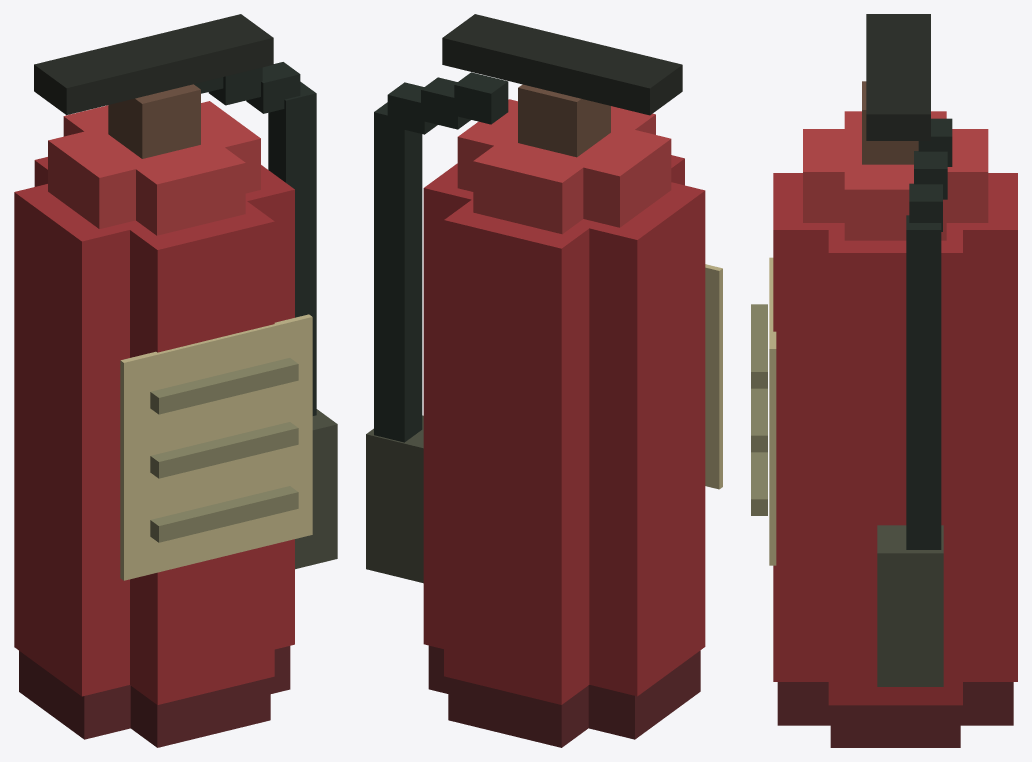
The model's file is CMU3DFireExtinguisher.glb.
3 views of the same model, side by side, from view 1: azimuth 30°, elevation 25°; view 2: azimuth 150°, elevation 25°; view 3: azimuth 270°, elevation 25° (orthographic).
Parts seen in each view (by area): view 1: red pressure cylinder (×3), cream instructions, cylinder shoulder (×3), squeeze handle, cylinder foot (×3), label instruction line (×3), hanging hose (×3), upper neck, hose nozzle, safety hose (×2); view 2: red pressure cylinder (×3), cylinder shoulder (×3), hanging hose (×5), squeeze handle, cylinder foot (×3), hose nozzle, safety hose (×3), upper neck, cream instructions; view 3: red pressure cylinder (×2), cylinder shoulder (×3), hanging hose (×4), cylinder foot (×2), hose nozzle, squeeze handle, label instruction line (×3), safety hose (×3), cream instructions, upper neck.
Part boxes in pixels (x1,y1,x2,y2): red pressure cylinder (×3): [14, 157, 294, 704]; cream instructions: [120, 314, 312, 580]; cylinder shoulder (×3): [48, 101, 260, 235]; squeeze handle: [34, 14, 273, 115]; cylinder foot (×3): [19, 646, 290, 747]; label instruction line (×3): [150, 358, 298, 542]; hanging hose (×3): [268, 81, 316, 327]; upper neck: [108, 84, 200, 158]; hose nozzle: [295, 409, 337, 569]; safety hose (×2): [208, 62, 300, 113]; red pressure cylinder (×3): [423, 155, 705, 704]; cylinder shoulder (×3): [457, 99, 671, 234]; hanging hose (×5): [374, 102, 422, 442]; squeeze handle: [442, 14, 682, 115]; cylinder foot (×3): [428, 645, 700, 747]; hose nozzle: [366, 415, 423, 583]; safety hose (×3): [387, 72, 508, 134]; upper neck: [518, 84, 610, 157]; cream instructions: [705, 264, 722, 489]; red pressure cylinder (×2): [773, 173, 1017, 705]; cylinder shoulder (×3): [803, 111, 988, 240]; hanging hose (×4): [906, 215, 941, 538]; cylinder foot (×2): [777, 682, 1013, 747]; hose nozzle: [877, 525, 943, 686]; squeeze handle: [866, 14, 930, 140]; label instruction line (×3): [751, 304, 767, 515]; safety hose (×3): [909, 118, 952, 231]; cream instructions: [769, 257, 776, 565]; upper neck: [862, 81, 918, 164].
Size of the model in its own units: 0.229 by 0.498 by 0.19.
